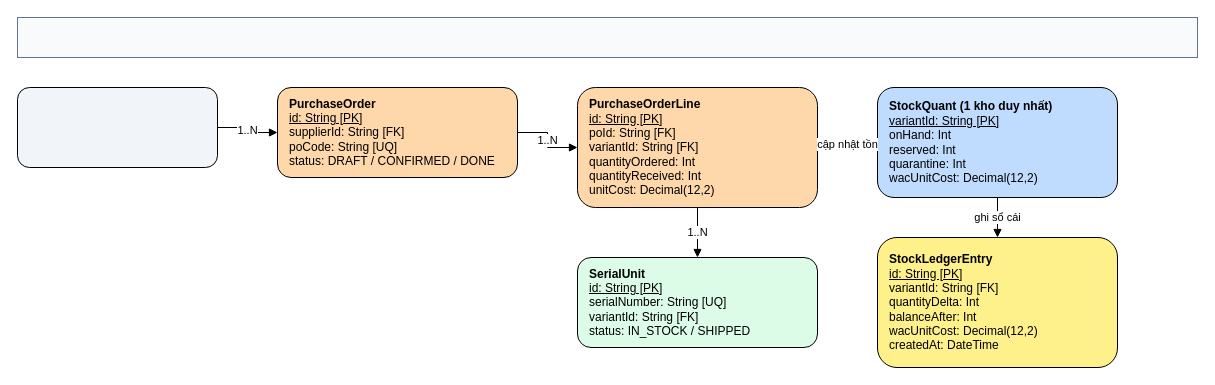
This 1215x385 diagram has some shape labels left out. The shapes that lost their labels are listed below. From the top down, each one's centre as x and y in pixels, then its label:
the point at 607,37: ERD CHI TIẾT: NHÀ CUNG CẤP, ĐƠN MUA PO, TỒN KHO VÀ SERIAL TRÊN MỘT KHO DUY NHẤT
the point at 117,127: Supplier id: String [PK] name: String contactPhone: String
